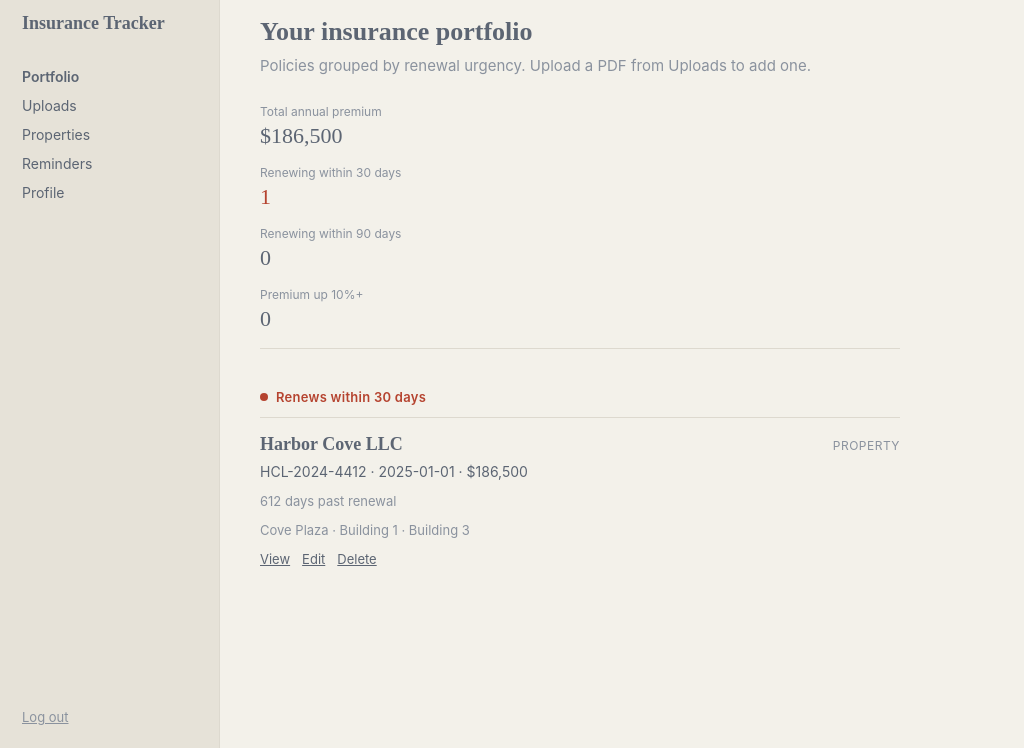
Scenario: policy detail › opens detail from the Home View link
This screenshot has width=1024, height=748.
Click the link with aria-label "view harbor cove llc": point(275, 559) x1=260 y1=551 x2=290 y2=567
(page scrolled)
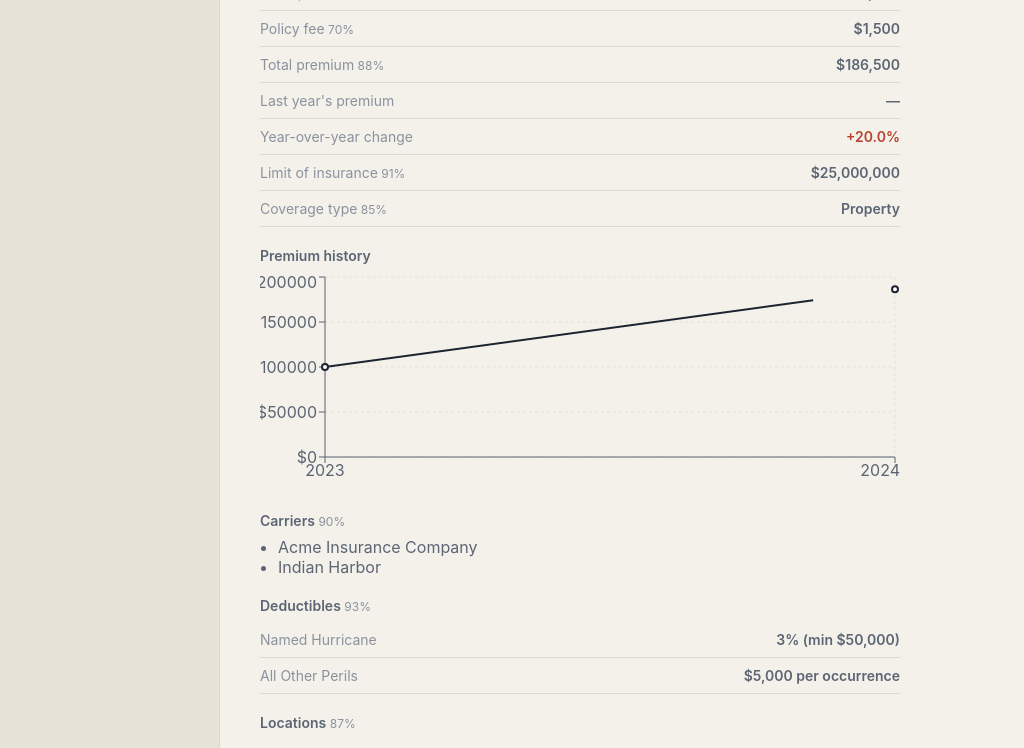
Expected: the text "Named Hurricane" is shown, x1=260 y1=631 x2=377 y2=648
Expected: the element "Premium history" is shown, x1=260 y1=247 x2=900 y2=492
